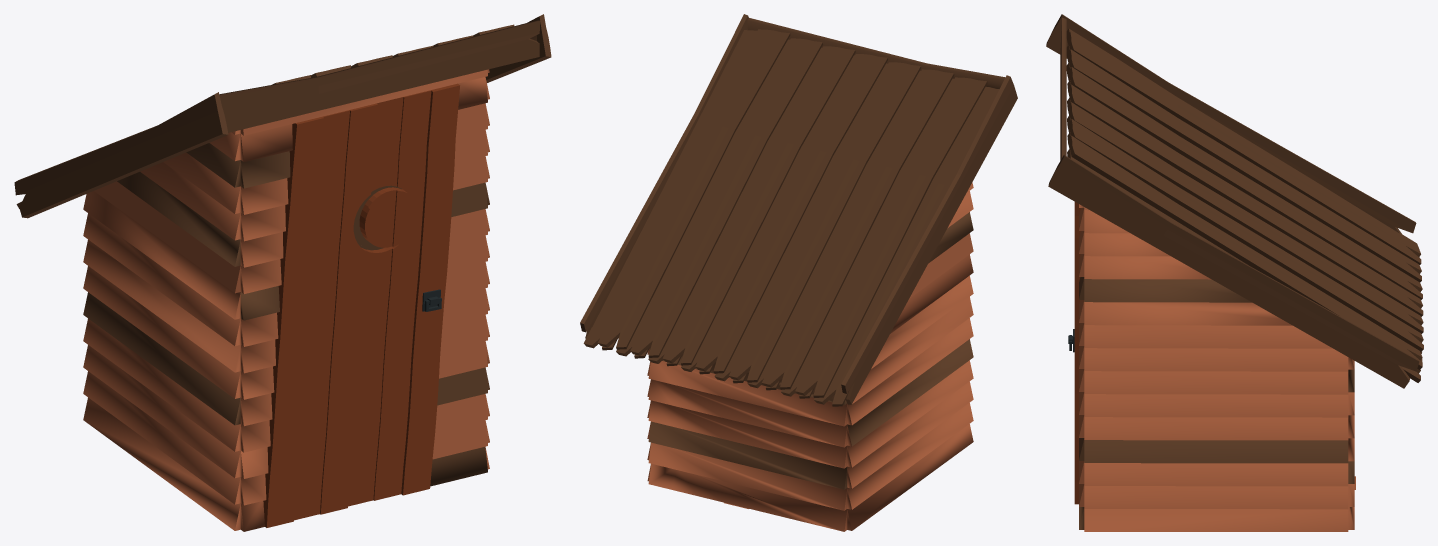
Rendered from Shed_V01.fbx.
3 renders of one model, left to right at view 1: azimuth 30°, elevation 25°; view 2: azimuth 150°, elevation 25°; view 3: azimuth 270°, elevation 25°, orthographic. The views are drawn at different scales.
Parts seen in each view (by area): view 1: Shed_V01; view 2: Shed_V01; view 3: Shed_V01.
Boxes of the visible parts, bbox=[...] form: Shed_V01: bbox=[14, 14, 551, 531]; Shed_V01: bbox=[580, 14, 1017, 531]; Shed_V01: bbox=[1046, 14, 1423, 531].
Bounding box in the file's own units: 179 × 235 × 203.
